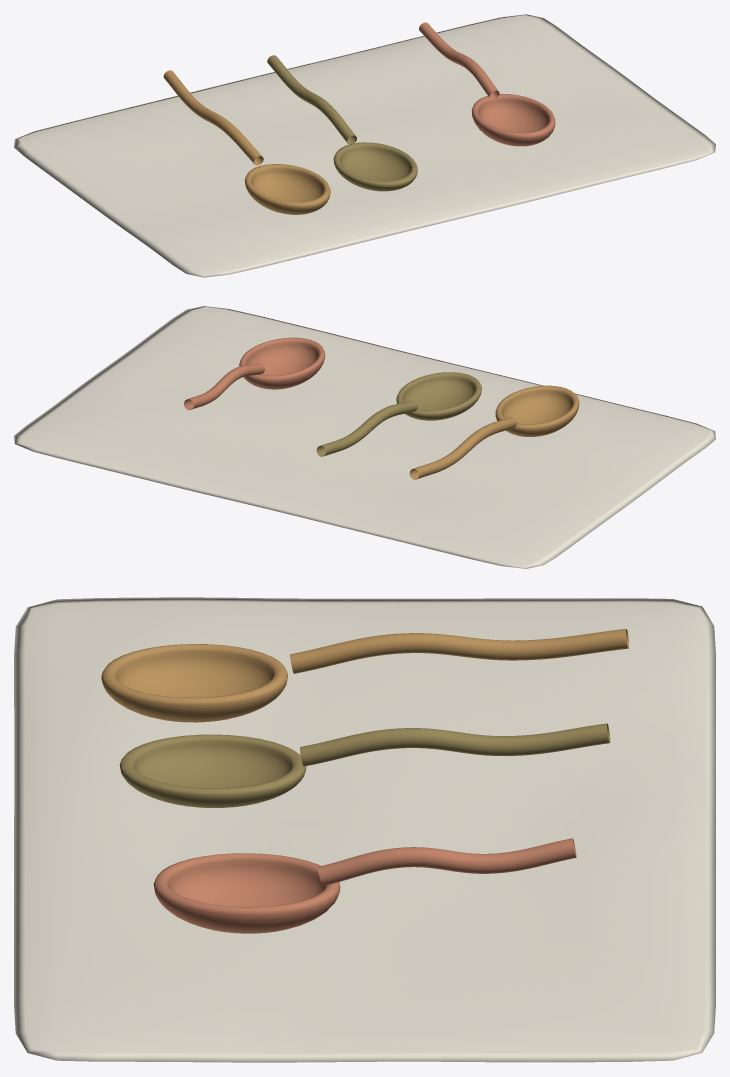
File: cucharas_variadas.glb
3 views of the same model, one above another, from view 1: azimuth 30°, elevation 25°; view 2: azimuth 150°, elevation 25°; view 3: azimuth 270°, elevation 25° (orthographic). The views are drawn at different scales.
Parts seen in each view (by area): view 1: pano, cuchara_3, cuchara_1, cuchara_2; view 2: pano, cuchara_3, cuchara_2, cuchara_1; view 3: pano, cuchara_3, cuchara_2, cuchara_1.
Part boxes in pixels (x1,y1,x2,y2): pano: (14, 14, 715, 277); cuchara_3: (163, 70, 330, 214); cuchara_1: (419, 22, 555, 146); cuchara_2: (267, 55, 417, 191); pano: (14, 306, 715, 568); cuchara_3: (409, 385, 579, 479); cuchara_2: (316, 372, 481, 456); cuchara_1: (184, 337, 325, 410); pano: (14, 597, 715, 1062); cuchara_3: (101, 629, 628, 722); cuchara_2: (119, 723, 610, 807); cuchara_1: (153, 838, 576, 933).
Bounding box in the file's own units: 0.7124 × 0.0684 × 0.4551.
